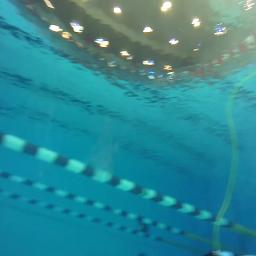Full: (208, 250, 254, 256)
